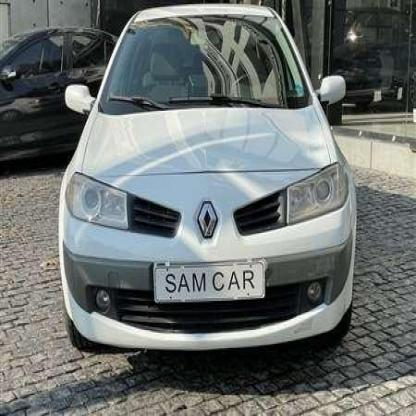Car: (61, 15, 361, 366), (0, 24, 139, 182)
